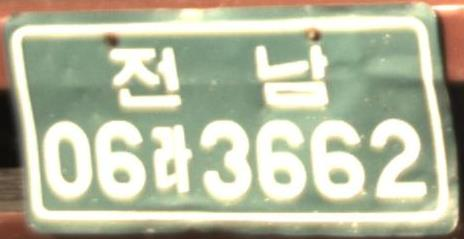0: (40, 118, 93, 199)
2: (370, 117, 428, 198)
3: (200, 117, 253, 202)
6: (309, 118, 365, 201), (254, 117, 308, 201), (93, 118, 147, 200)
라: (150, 123, 193, 194)
전남_D: (108, 43, 330, 110)
